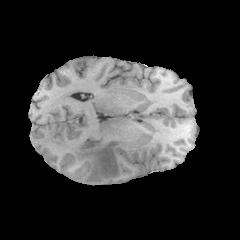glioma: (68, 134, 119, 182)
